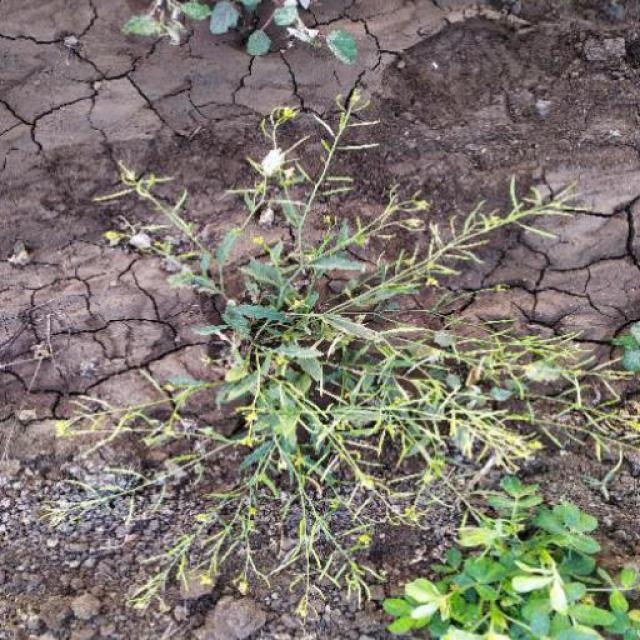weed: (39, 95, 640, 495), (364, 498, 640, 638)
